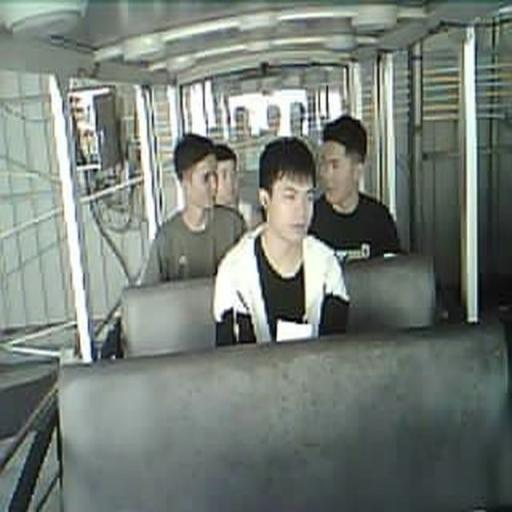persona: (212, 136, 351, 346), (140, 133, 246, 285), (308, 114, 401, 265), (213, 143, 248, 229)
